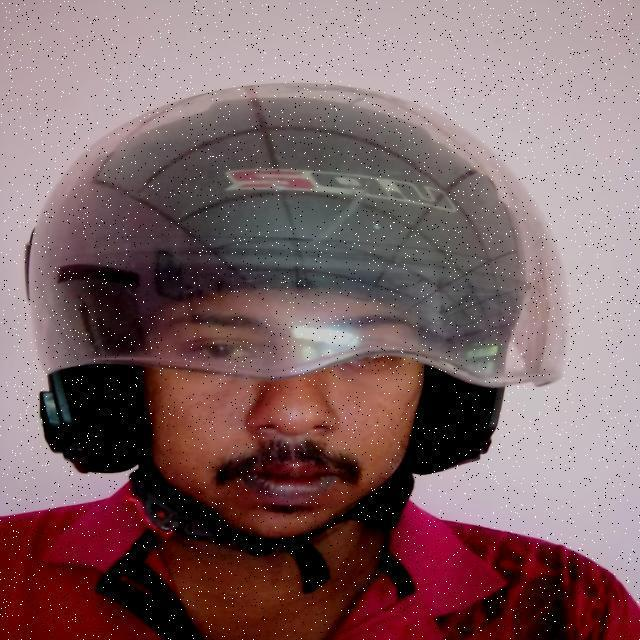helmet: (24, 84, 572, 562)
